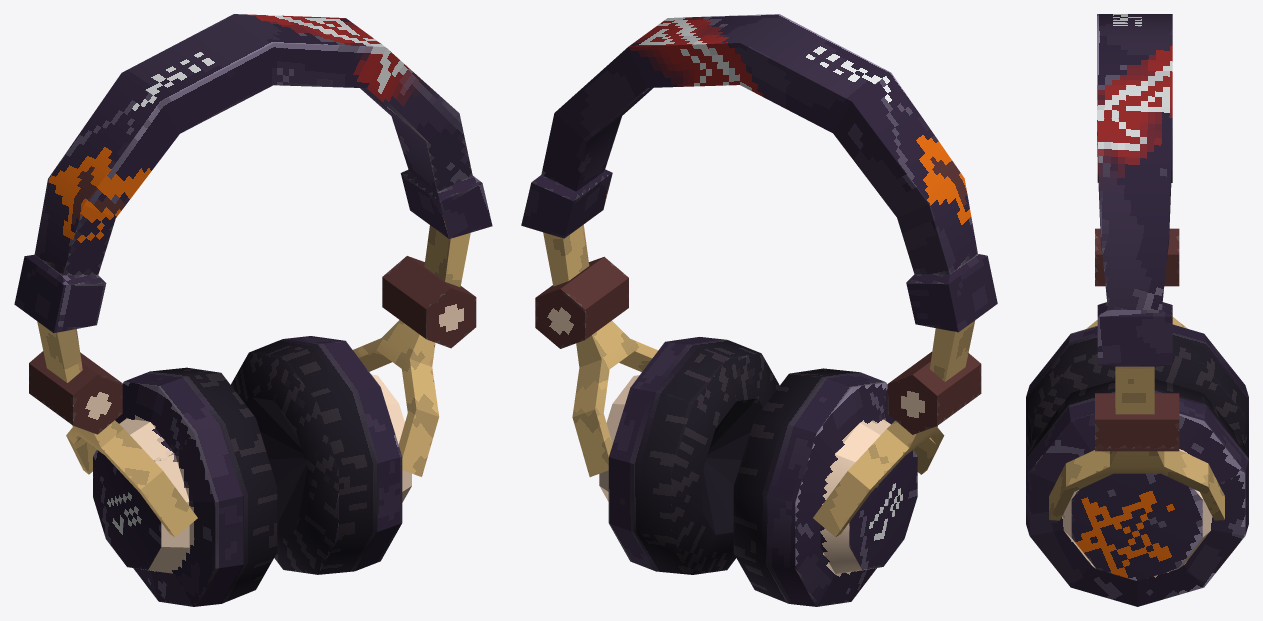
File: headphones.gltf
The picture shows the model from 3 angles, left to right: view 1: azimuth 30°, elevation 25°; view 2: azimuth 150°, elevation 25°; view 3: azimuth 270°, elevation 25°; orthographic projection. The views are drawn at different scales.
Parts seen in each view (by area): view 1: Object_2; view 2: Object_2; view 3: Object_2.
Part boxes in pixels (x1=…): Object_2: x1=14, y1=14, x2=492, y2=606; Object_2: x1=521, y1=14, x2=997, y2=606; Object_2: x1=1026, y1=14, x2=1248, y2=606.
Bounding box in the file's own units: 1.39 × 1.68 × 0.6403.
1 material, 1 textured.
